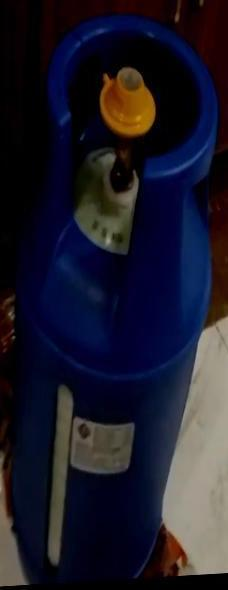cylinder: (1, 1, 228, 590)
